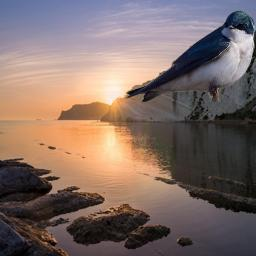Swallow: (124, 10, 256, 102)
